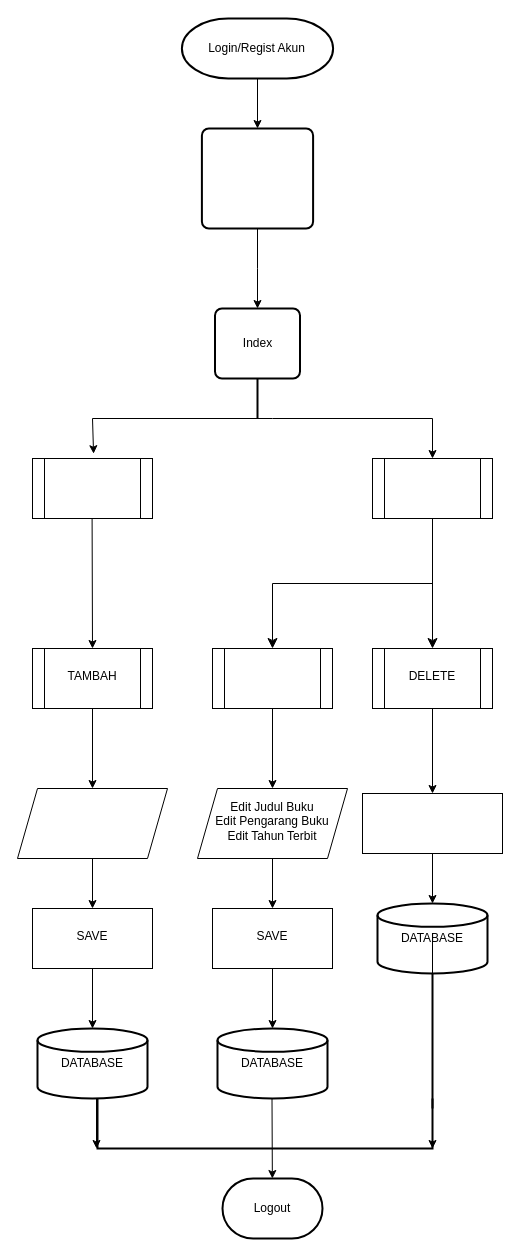
This 520x1256 diagram has some shape labels left out. The box of each missing label's shape, as (x1, y1, x2, y2) in pixels:
DAFTAR BUKU: (372, 458, 492, 518)
EDIT: (212, 648, 332, 708)
Insert Password: (200, 127, 314, 229)
Judul Buku Pengarang Buku Tahun Terbit: (16, 788, 168, 858)
SELECT DELETE: (362, 792, 502, 854)
TAMBAH BUKU: (32, 458, 152, 518)
